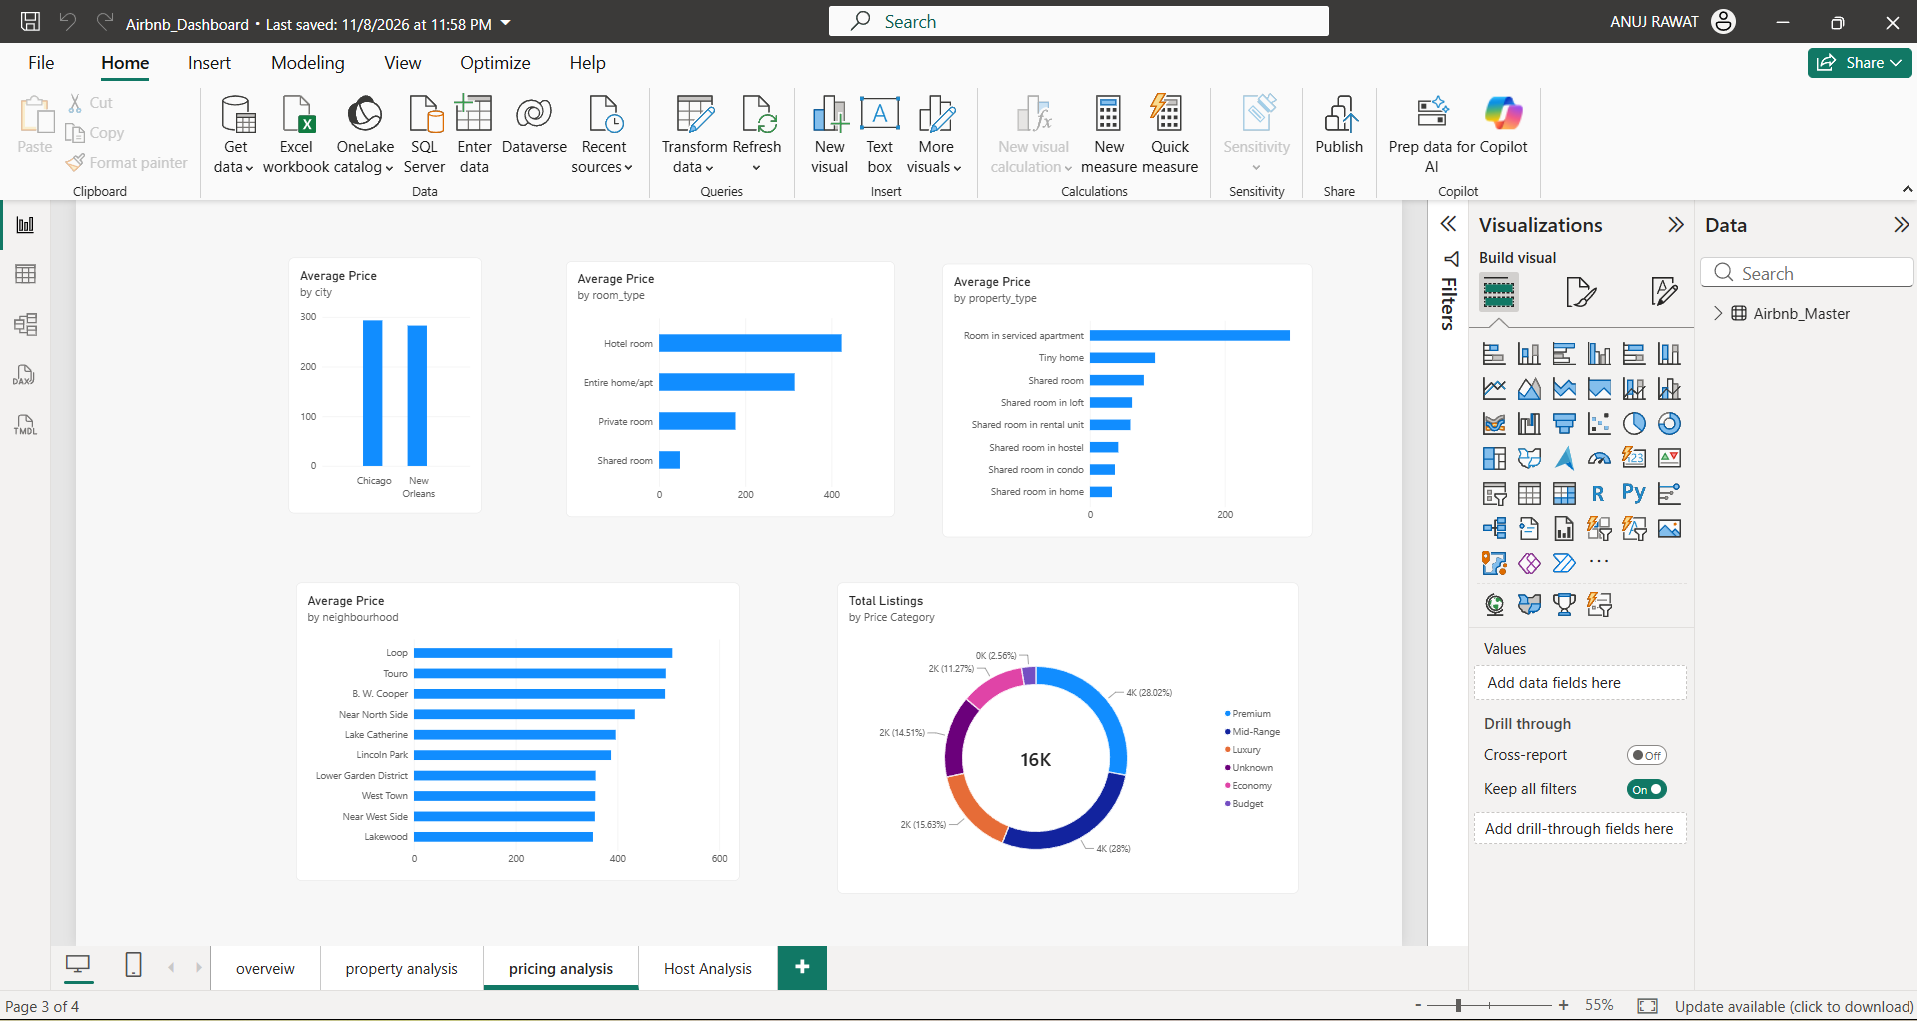

Layout of this report page (visuals, bound fields, positions):
{"tool":"powerbi","page":{"name":"pricing analysis","canvas":[1920,1080],"ordinal":2},"visuals":[{"type":"clusteredColumnChart","fields":{"Category":["Airbnb_Master.city"],"Y":["Airbnb_Master.Avg Price Measure"]},"box":[308,84,280,370],"z":0},{"type":"clusteredBarChart","fields":{"Category":["Airbnb_Master.room_type"],"Y":["Airbnb_Master.Avg Price Measure"]},"box":[710,88,476,370],"z":1},{"type":"clusteredBarChart","fields":{"Category":["Airbnb_Master.property_type"],"Y":["Airbnb_Master.Avg Price Measure"]},"box":[1254,92,536,396],"z":2},{"type":"donutChart","fields":{"Category":["Airbnb_Master.Price Category"],"Y":["Airbnb_Master.Total Listings"]},"box":[1102,554,668,450],"z":3},{"type":"clusteredBarChart","fields":{"Category":["Airbnb_Master.neighbourhood"],"Y":["Airbnb_Master.Avg Price Measure"]},"box":[318,554,642,432],"z":4}]}

Visuals, with their boxes on the page's 1920x1080 design canvas (x1, y1, x2, y2). These are canvas units, not pixel positions in the 1917x1021 screenshot, which may show the page scaled, cropped or inside an application window:
clusteredColumnChart - Airbnb_Master.city x Airbnb_Master.Avg Price Measure: select_region(308, 84, 588, 454)
clusteredBarChart - Airbnb_Master.room_type x Airbnb_Master.Avg Price Measure: select_region(710, 88, 1186, 458)
clusteredBarChart - Airbnb_Master.property_type x Airbnb_Master.Avg Price Measure: select_region(1254, 92, 1790, 488)
donutChart - Airbnb_Master.Price Category x Airbnb_Master.Total Listings: select_region(1102, 554, 1770, 1004)
clusteredBarChart - Airbnb_Master.neighbourhood x Airbnb_Master.Avg Price Measure: select_region(318, 554, 960, 986)
